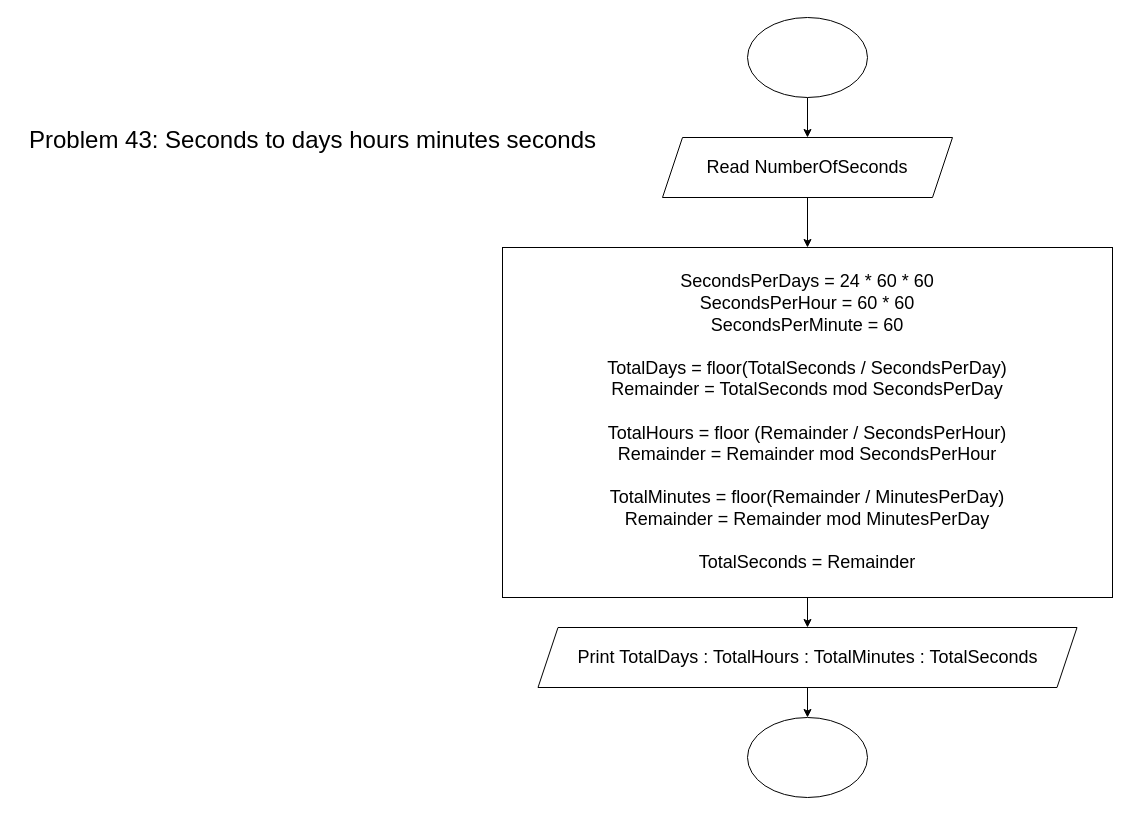
The diagram is 1130 pixels wide and 815 high, and some of its shapes have lost their labels. Here are the shapes that lost their labels. From the top down, the box of each, then its label:
(746, 16, 868, 98): Start
(746, 716, 868, 798): End
